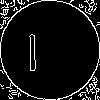I: (25, 25, 40, 71)
